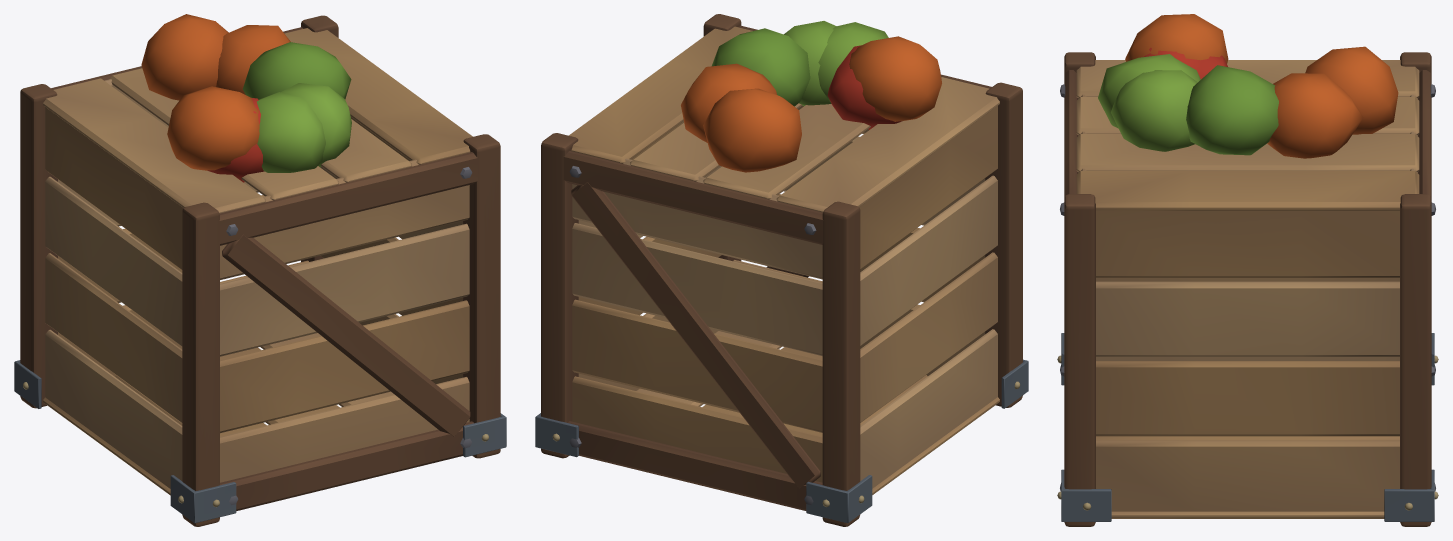
The model's file is pr_crate.glb.
3 views of the same model, side by side, from view 1: azimuth 30°, elevation 25°; view 2: azimuth 150°, elevation 25°; view 3: azimuth 270°, elevation 25° (orthographic). The views are drawn at different scales.
Visible parts, largest first — view 1: PR_crate__body, PR_crate__produce; view 2: PR_crate__body, PR_crate__produce; view 3: PR_crate__body, PR_crate__produce.
Part boxes in pixels (x1=…): PR_crate__body: x1=14, y1=15, x2=506, y2=526; PR_crate__produce: x1=141, y1=14, x2=351, y2=182; PR_crate__body: x1=535, y1=14, x2=1028, y2=526; PR_crate__produce: x1=681, y1=21, x2=941, y2=172; PR_crate__body: x1=1057, y1=52, x2=1438, y2=526; PR_crate__produce: x1=1098, y1=14, x2=1398, y2=158.
Size of the model in its own units: 1.09 by 1.24 by 1.09.
